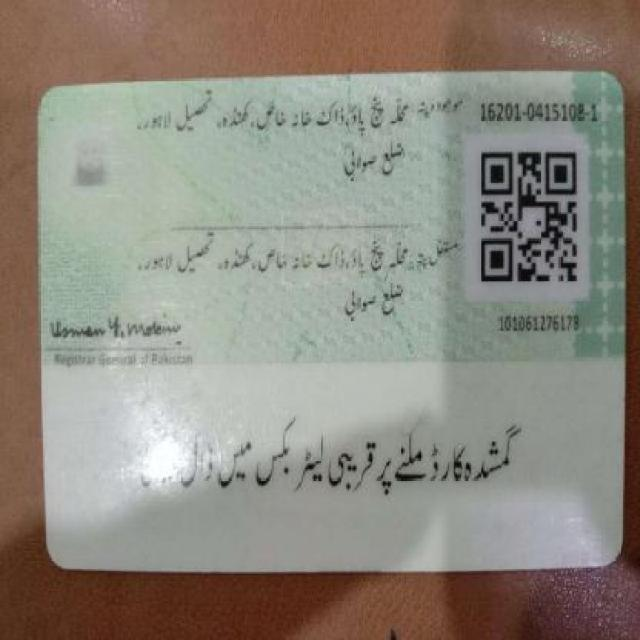Back: (28, 68, 629, 580)
